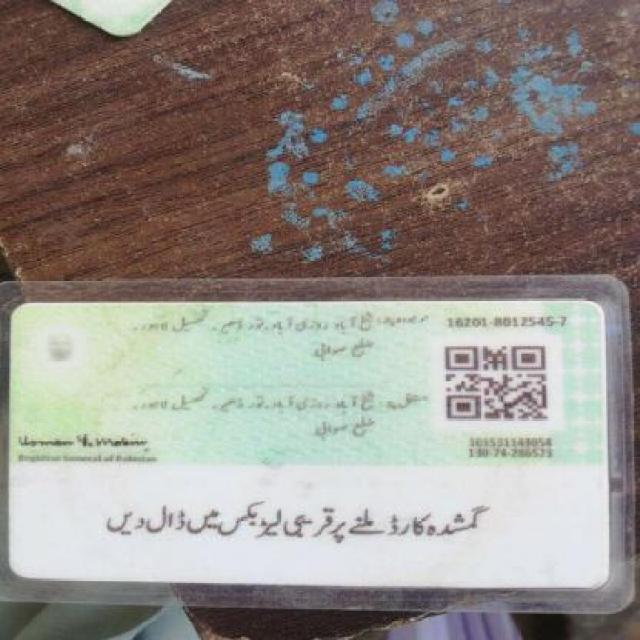Back: (8, 295, 618, 603)
